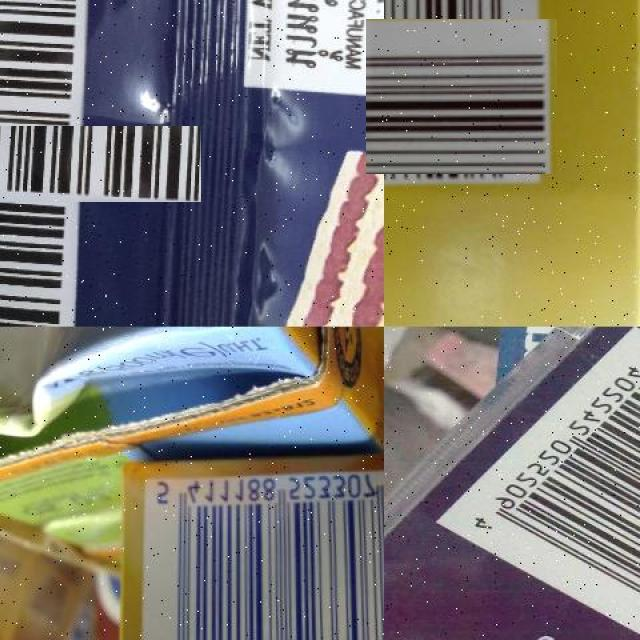Barcode: (430, 328, 640, 640), (137, 472, 384, 640), (375, 9, 548, 183), (0, 64, 139, 265)
